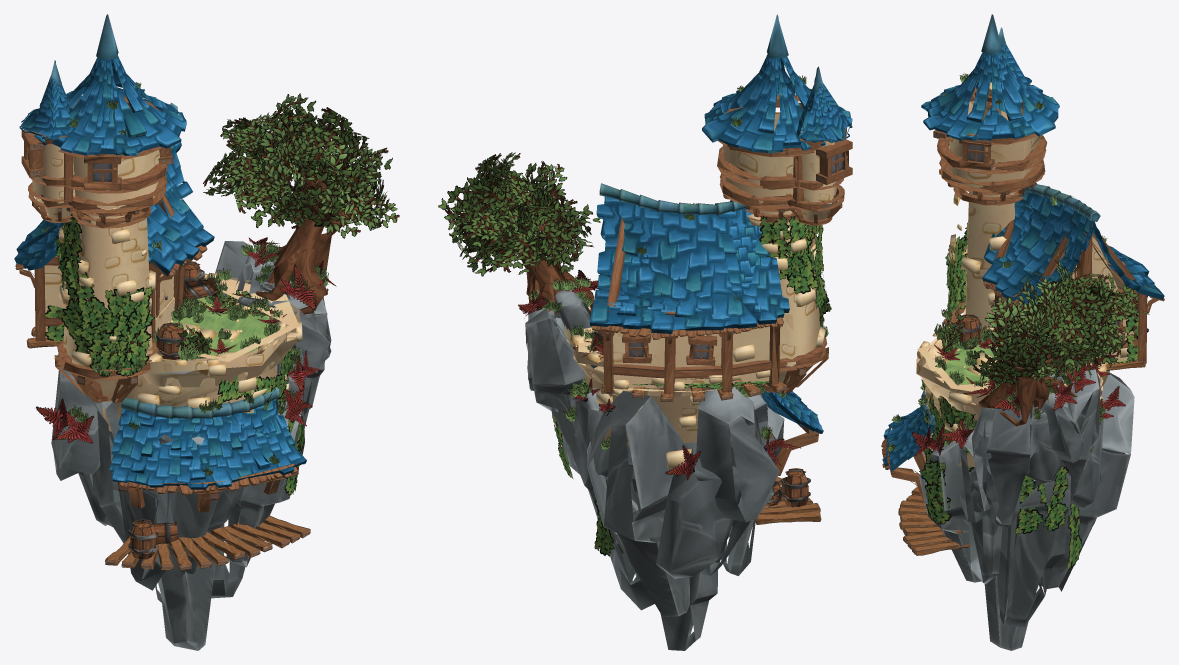
3 renders of one model, left to right at view 1: azimuth 30°, elevation 25°; view 2: azimuth 150°, elevation 25°; view 3: azimuth 270°, elevation 25°, orthographic. The views are drawn at different scales.
Visible parts, largest first — view 1: roof, rocks_Material #413_0, leaves_op branches_0, wood structure_wooden skel no op_0, klimop, tower base_wall_0, base tower, grass_op branches_0, wood beams_wooden skel no op_0, stone details_wall_0, ferns_Material #650_0, tree trunk (+5 smaller); view 2: rocks_Material #413_0, roof, leaves_op branches_0, wood structure_wooden skel no op_0, tower base_wall_0, klimop, house base_wall_0, stone details_wall_0, base tower, windows_wooden skel no op_0, grass_op branches_0, wood beams_wooden skel no op_0 (+4 smaller); view 3: rocks_Material #413_0, roof, leaves_op branches_0, wood structure_wooden skel no op_0, klimop, tower base_wall_0, ferns_Material #650_0, grass_op branches_0, wood beams_wooden skel no op_0, base tower, tree trunk, stone details_wall_0 (+4 smaller).
Part boxes in pixels (x1,y1,x2,y2): roof: (14,14,306,489); rocks_Material #413_0: (51,241,331,650); leaves_op branches_0: (176,93,399,358); wood structure_wooden skel no op_0: (19,96,298,512); klimop: (45,214,305,495); tower base_wall_0: (30,110,160,400); base tower: (102,273,300,433); grass_op branches_0: (42,82,328,475); wood beams_wooden skel no op_0: (26,327,310,570); stone details_wall_0: (59,227,302,407); ferns_Material #650_0: (36,237,336,443); tree trunk: (245,156,373,314); rocks_Material #413_0: (525,290,784,650); roof: (589,14,852,433); leaves_op branches_0: (438,152,600,276); wood structure_wooden skel no op_0: (603,94,846,475); tower base_wall_0: (723,112,837,385); klimop: (552,216,831,556); house base_wall_0: (613,326,769,392); stone details_wall_0: (570,214,825,468); base tower: (564,306,761,447); windows_wooden skel no op_0: (622,107,852,365); grass_op branches_0: (529,75,828,449); wood beams_wooden skel no op_0: (601,381,821,524); rocks_Material #413_0: (919,366,1134,650); roof: (882,14,1164,471); leaves_op branches_0: (940,260,1149,387); wood structure_wooden skel no op_0: (884,84,1158,502); klimop: (919,226,1149,570); tower base_wall_0: (949,82,1040,328); ferns_Material #650_0: (911,336,1125,455); grass_op branches_0: (886,73,1107,453); wood beams_wooden skel no op_0: (898,361,1145,555); base tower: (916,326,1109,466); tree trunk: (978,284,1080,426); stone details_wall_0: (917,194,1128,452).
Bounding box in the file's own units: 17898 × 29705 × 12881.
10 materials, 10 textured.
